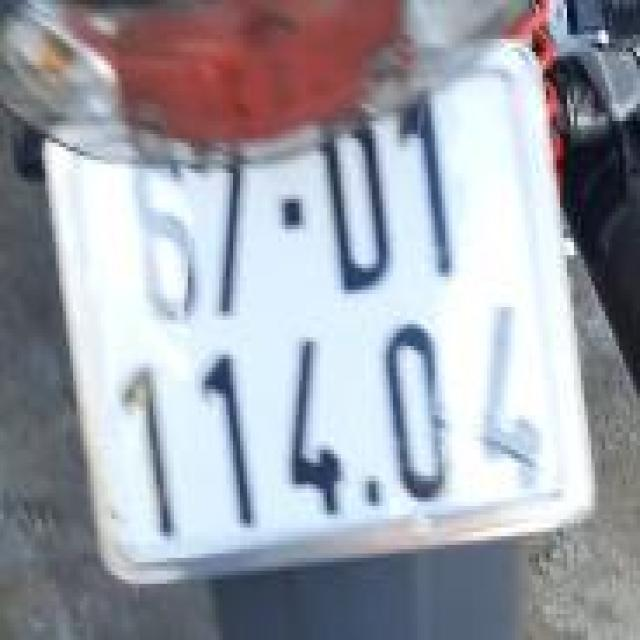0: (364, 309, 460, 508)
1: (388, 83, 465, 290), (188, 345, 261, 539), (107, 361, 181, 546)
4: (454, 288, 551, 496), (264, 329, 350, 526)
6: (118, 145, 209, 333)
7: (193, 133, 276, 326)
D: (307, 102, 402, 308)
